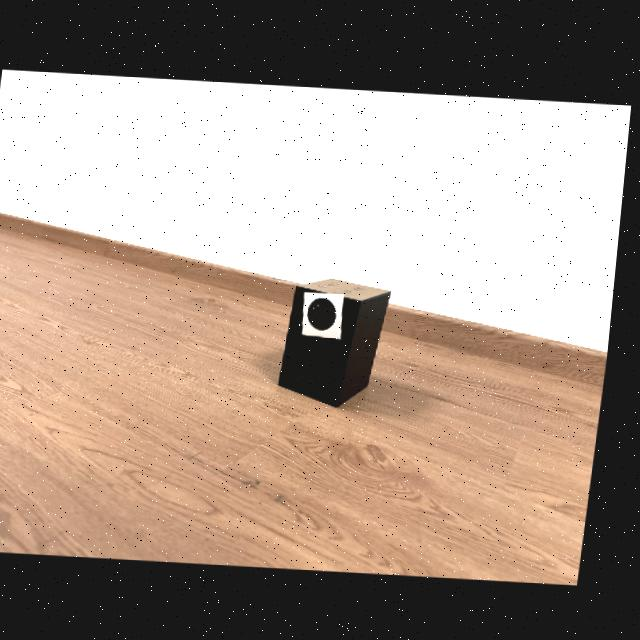CIRCLE: (313, 296, 342, 328)
